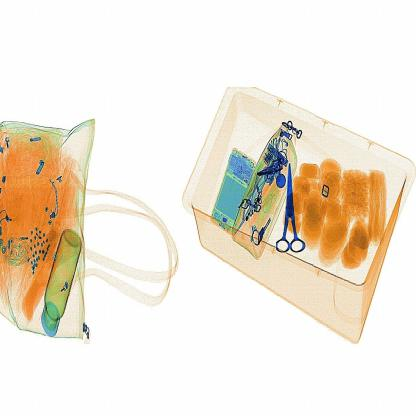gun: (273, 154, 313, 262)
